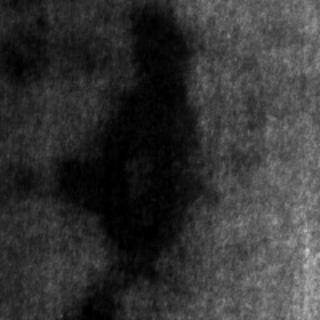patches: (54, 8, 198, 260), (62, 276, 126, 318), (0, 31, 46, 85)
